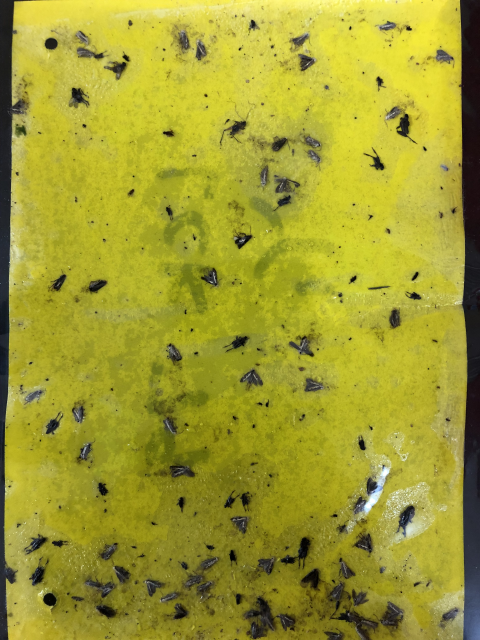DBM: (290, 333, 316, 360), (238, 367, 265, 392), (231, 226, 257, 251), (273, 174, 301, 197), (198, 266, 223, 291), (351, 530, 374, 556), (76, 438, 98, 464), (286, 30, 313, 51), (163, 340, 184, 367), (295, 52, 319, 75), (176, 23, 193, 53), (384, 597, 407, 619), (255, 556, 278, 578), (432, 47, 455, 68), (336, 560, 357, 582), (111, 564, 134, 584), (255, 162, 271, 190), (386, 305, 403, 331), (380, 103, 402, 123), (301, 377, 326, 394), (438, 605, 459, 625), (350, 587, 371, 607), (301, 131, 323, 150), (327, 580, 346, 602), (87, 277, 109, 296), (73, 45, 97, 62), (143, 578, 163, 598), (303, 148, 324, 167), (277, 613, 298, 632), (271, 134, 290, 155), (100, 579, 117, 602), (52, 270, 68, 294), (98, 542, 117, 562), (194, 37, 208, 64), (169, 462, 190, 480), (230, 514, 248, 535), (195, 579, 216, 597), (379, 616, 404, 631), (6, 99, 29, 115), (360, 614, 379, 633), (259, 613, 277, 633), (376, 19, 397, 36), (162, 415, 179, 436), (198, 555, 219, 572), (182, 572, 203, 589), (83, 575, 105, 591), (159, 590, 182, 605), (73, 28, 91, 47), (24, 388, 44, 405), (70, 404, 85, 425), (322, 627, 346, 640), (171, 603, 189, 620), (351, 624, 369, 640)
